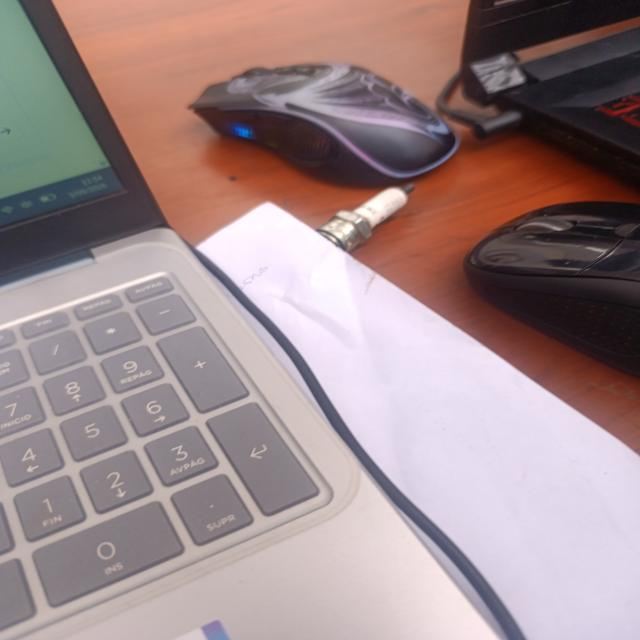Mause: (464, 201, 640, 377), (208, 63, 458, 178)
bujia: (316, 184, 414, 252)
